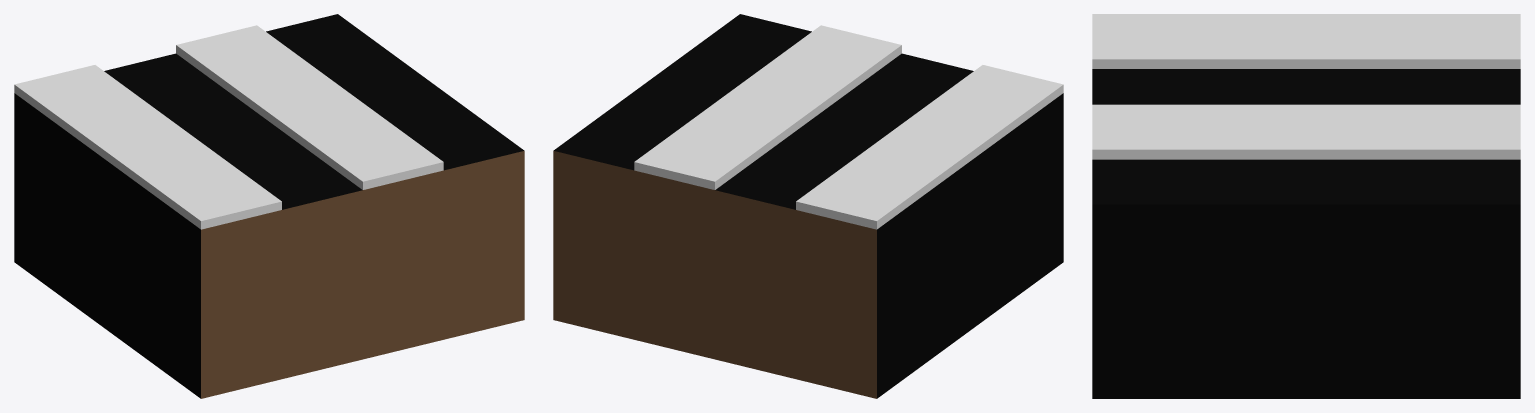
The model's file is SimpleBelt.fbx.
3 renders of one model, left to right at view 1: azimuth 30°, elevation 25°; view 2: azimuth 150°, elevation 25°; view 3: azimuth 270°, elevation 25°, orthographic. The views are drawn at different scales.
Visible parts, largest first — view 1: Cube; view 2: Cube; view 3: Cube.
Part boxes in pixels (x1,y1,x2,y2): Cube: (14,14,524,398); Cube: (553,14,1063,398); Cube: (1092,14,1520,398).
Size of the model in its own units: 200 by 105 by 200.
